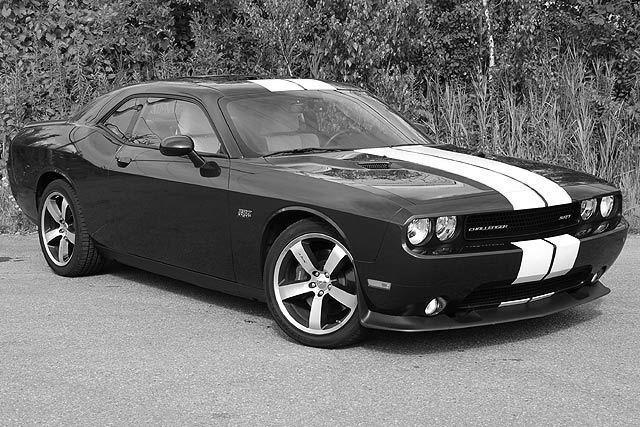car: (8, 78, 630, 354)
